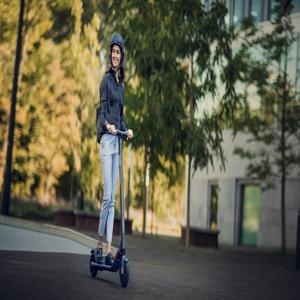human on a scooter: (88, 32, 135, 288)
